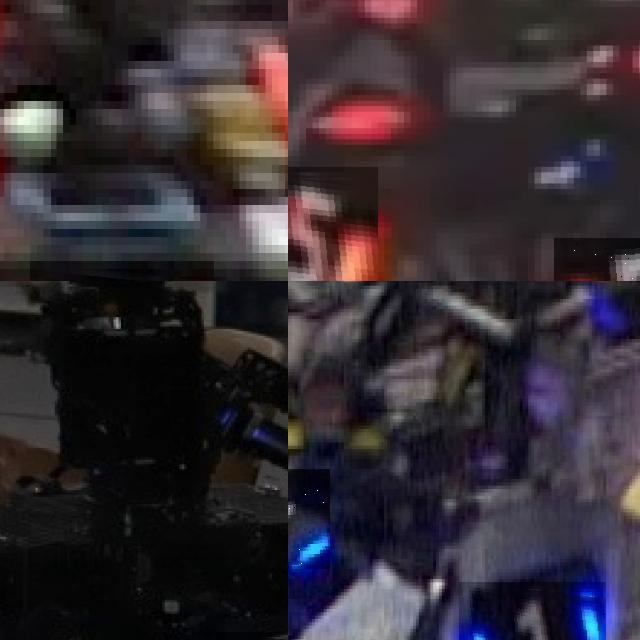B1: (459, 582, 606, 640), (288, 469, 329, 569)
R5: (288, 166, 378, 281)
